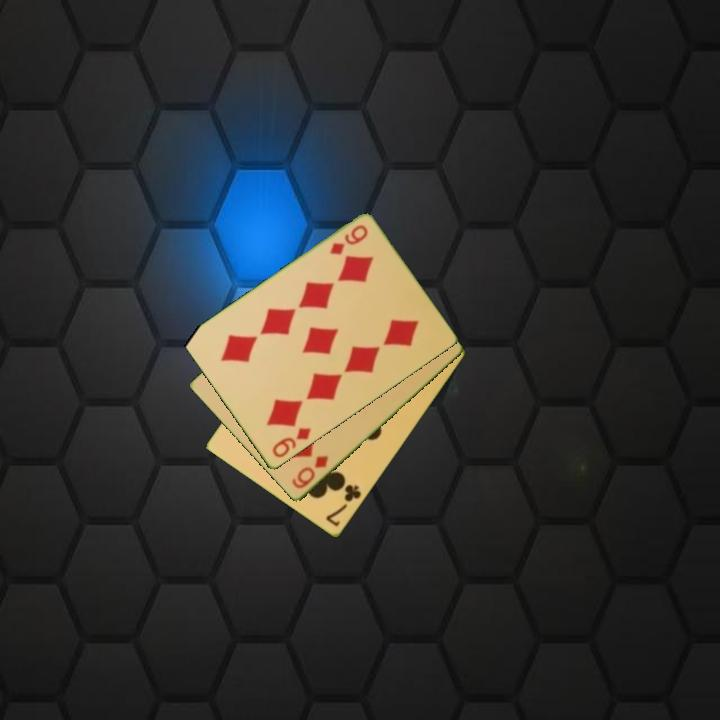6d: (288, 452, 331, 492)
7c: (322, 481, 364, 530)
9d: (269, 424, 314, 461), (326, 222, 371, 259)
